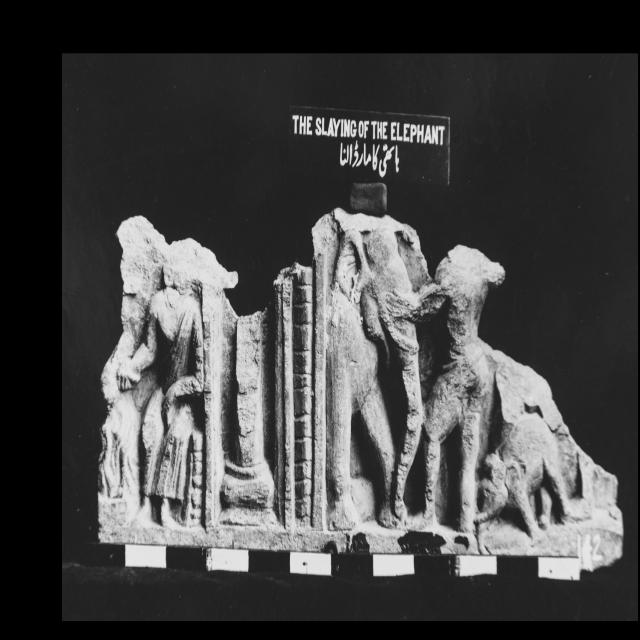buddha-standing: (424, 222, 491, 544)
